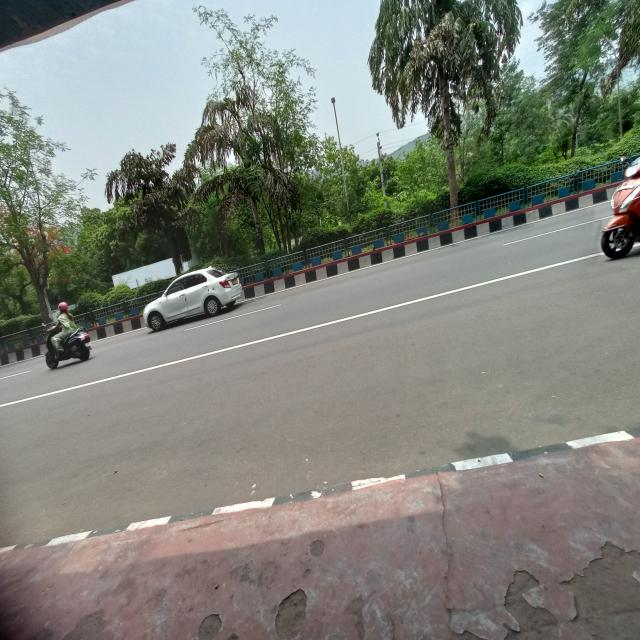bike: (592, 154, 640, 263), (45, 323, 99, 375)
car: (140, 260, 248, 330)
